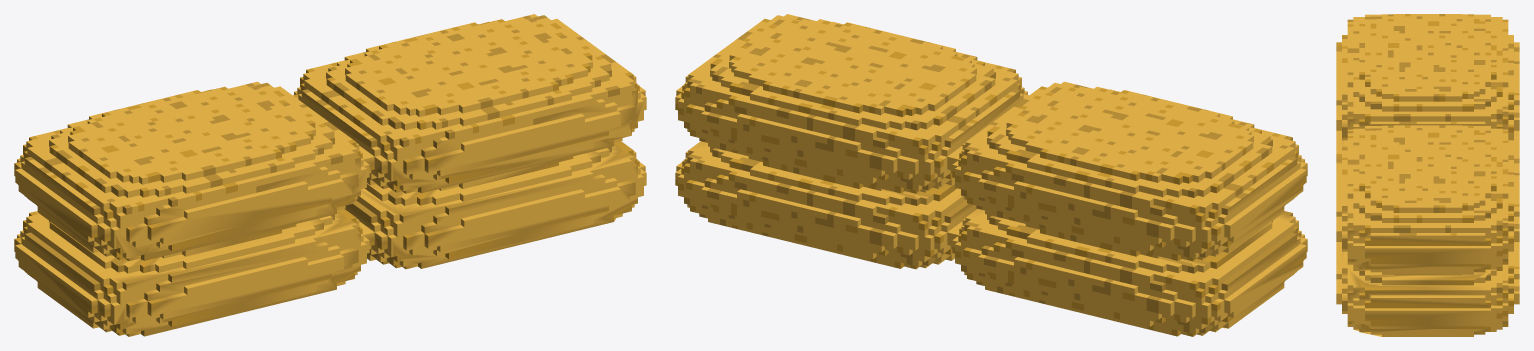
The model's file is sandboxes-1.obj.
3 views of the same model, side by side, from view 1: azimuth 30°, elevation 25°; view 2: azimuth 150°, elevation 25°; view 3: azimuth 270°, elevation 25° (orthographic). The views are drawn at different scales.
Visible parts, largest first — view 1: Untitled; view 2: Untitled; view 3: Untitled.
Boxes of the visible parts, x1=… form: Untitled: x1=14, y1=14, x2=646, y2=336; Untitled: x1=675, y1=14, x2=1307, y2=336; Untitled: x1=1336, y1=14, x2=1519, y2=336.
Bounding box in the file's own units: 9.2 × 2.4 × 3.2.
1 material, 1 textured.
